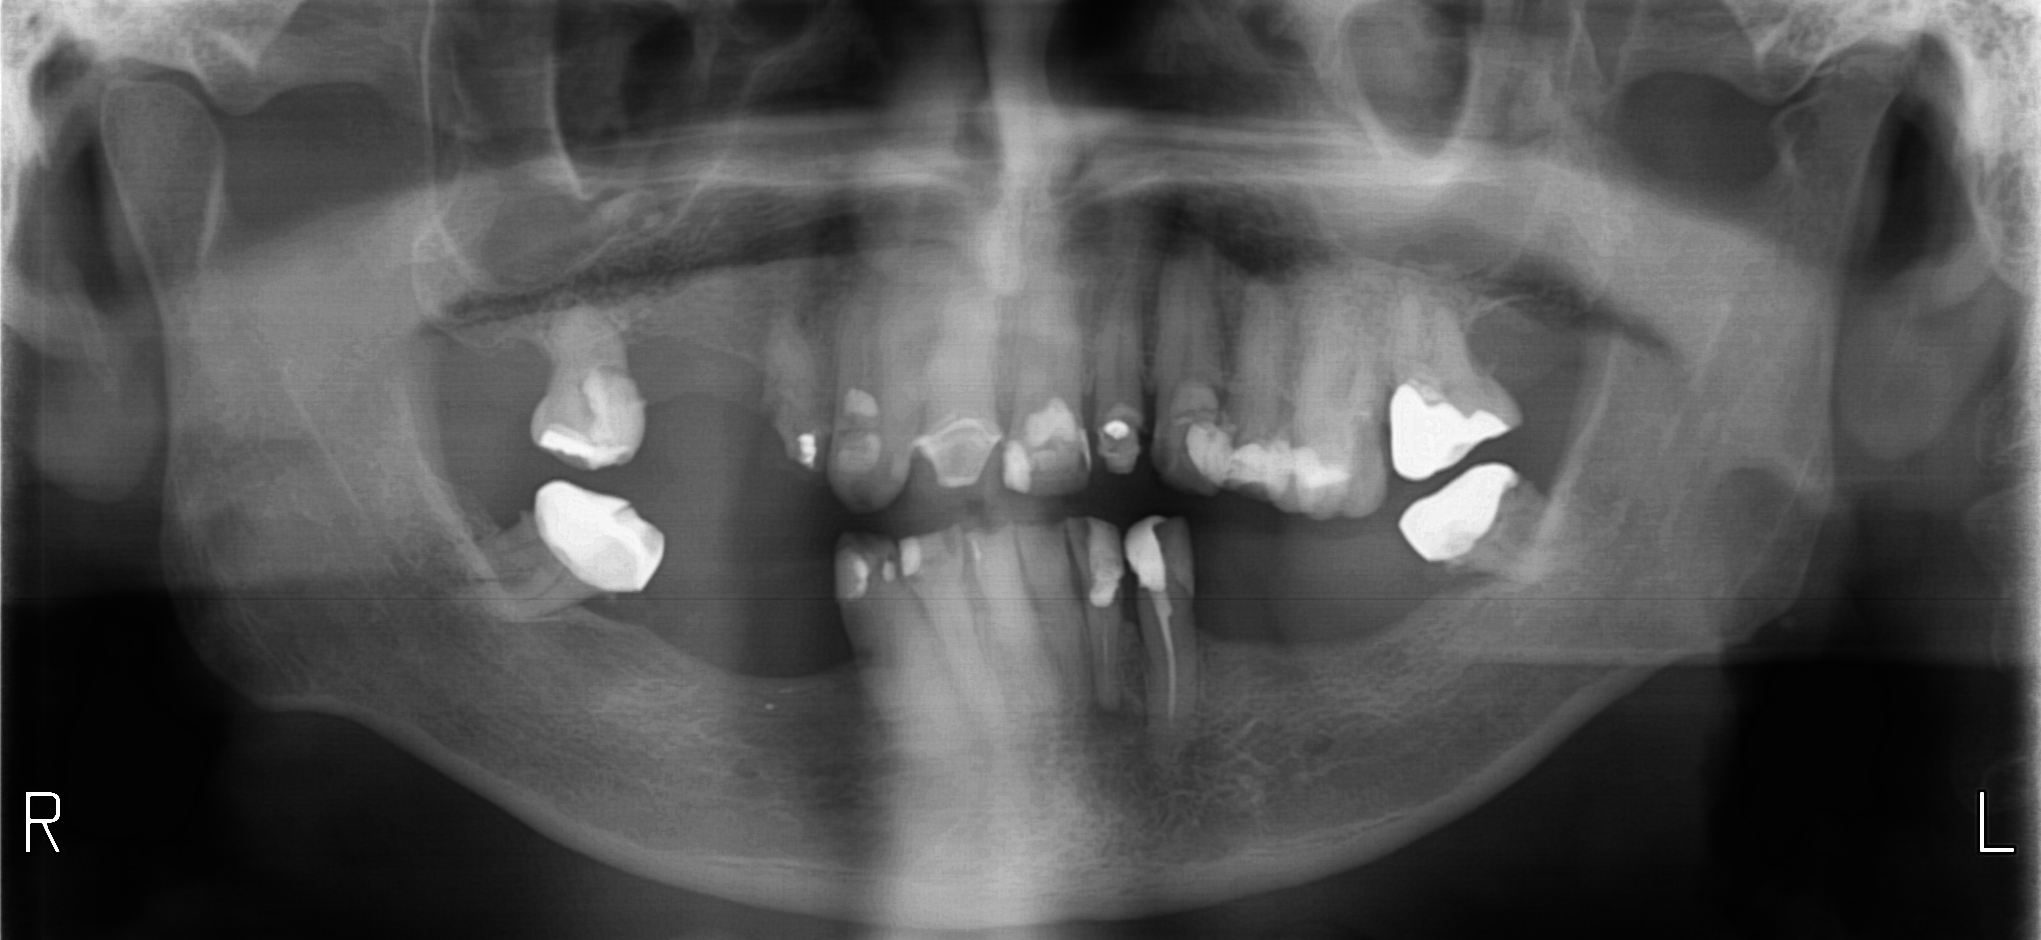cavity: (1470, 348, 1483, 370), (856, 647, 868, 651)
